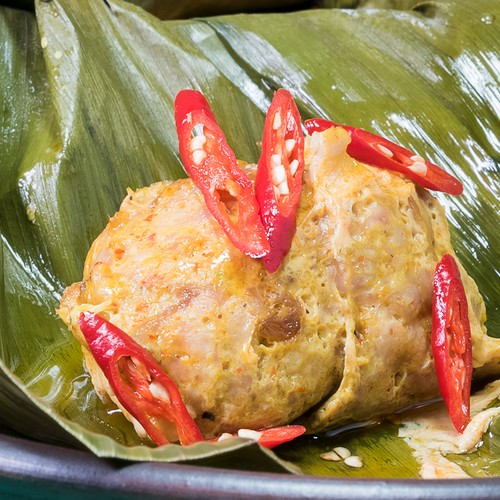tum ayam: (76, 129, 496, 441)
